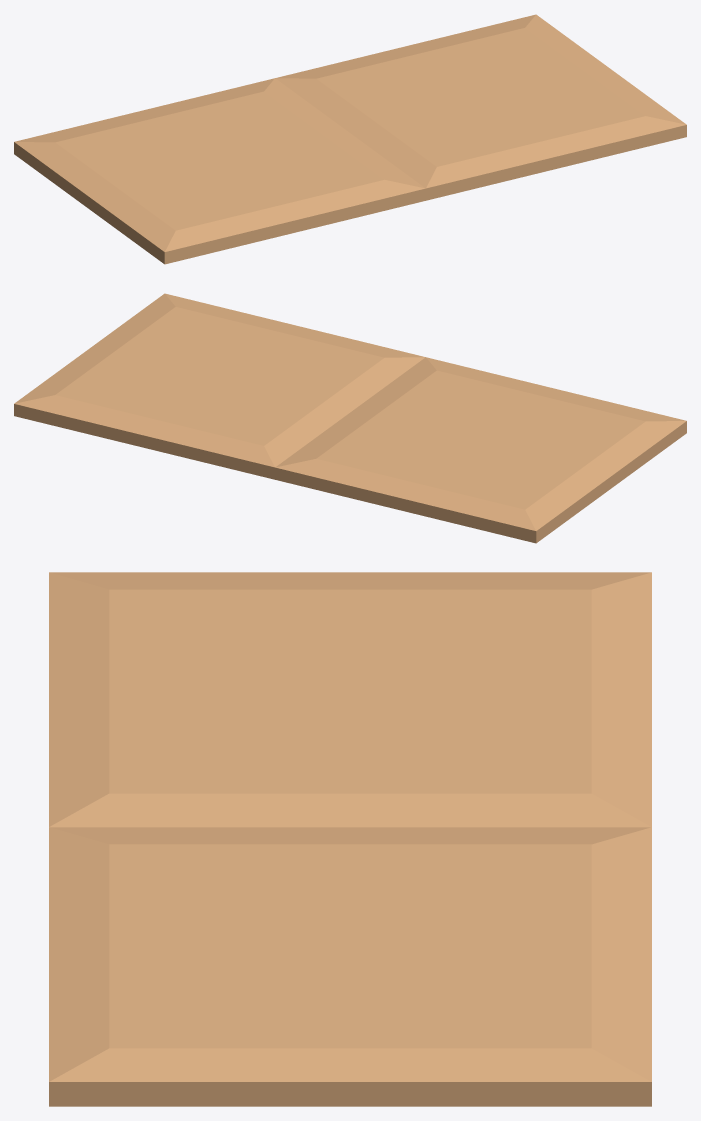
The model's file is WoodSmallFloorTile.fbx.
The picture shows the model from 3 angles, top to bottom: view 1: azimuth 30°, elevation 25°; view 2: azimuth 150°, elevation 25°; view 3: azimuth 270°, elevation 25°; orthographic projection. The views are drawn at different scales.
Visible parts, largest first — view 1: WoodSmallFloorTile; view 2: WoodSmallFloorTile; view 3: WoodSmallFloorTile.
Part boxes in pixels (box(x1,y1,x2,y2)): WoodSmallFloorTile: box(14, 14, 686, 264); WoodSmallFloorTile: box(14, 293, 686, 543); WoodSmallFloorTile: box(49, 572, 651, 1106).
Bounding box in the file's own units: 400 × 12 × 200.
